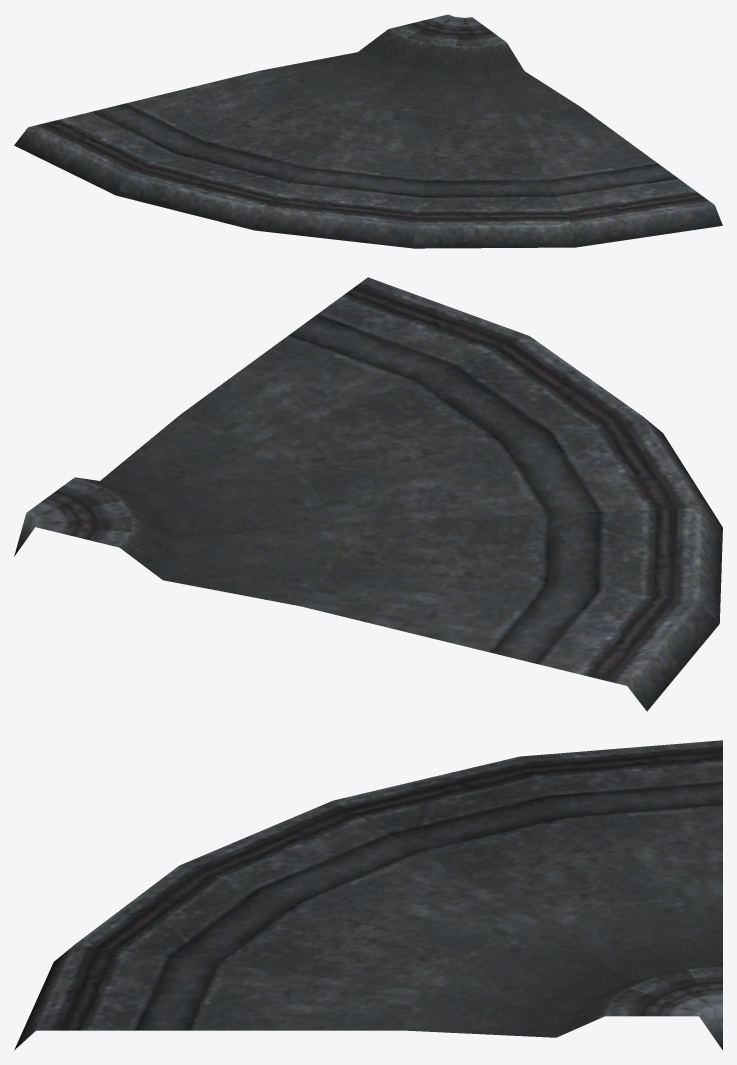
Rendered from living_area_welder_metal_thick_convex_tiny.dae.
3 views of the same model, one above another, from view 1: azimuth 30°, elevation 25°; view 2: azimuth 150°, elevation 25°; view 3: azimuth 270°, elevation 25° (orthographic). The views are drawn at different scales.
Visible parts, largest first — view 1: convex_tiny; view 2: convex_tiny; view 3: convex_tiny.
Part boxes in pixels (x1=…): convex_tiny: x1=14, y1=14, x2=722, y2=248; convex_tiny: x1=14, y1=277, x2=722, y2=711; convex_tiny: x1=14, y1=740, x2=722, y2=1050.
Size of the model in its own units: 0.5167 by 0.0276 by 0.5167.
